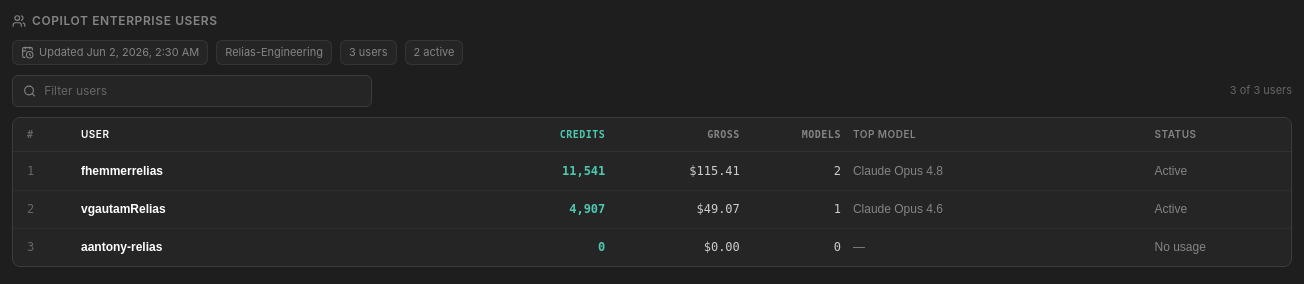
TopUsersSection › shows an empty match message when the filter excludes all users
Type "missing-user" into the search field named "Filter Copilot Enterprise users".
click(203, 90); type("missing-user")  # box [44,82,361,100]
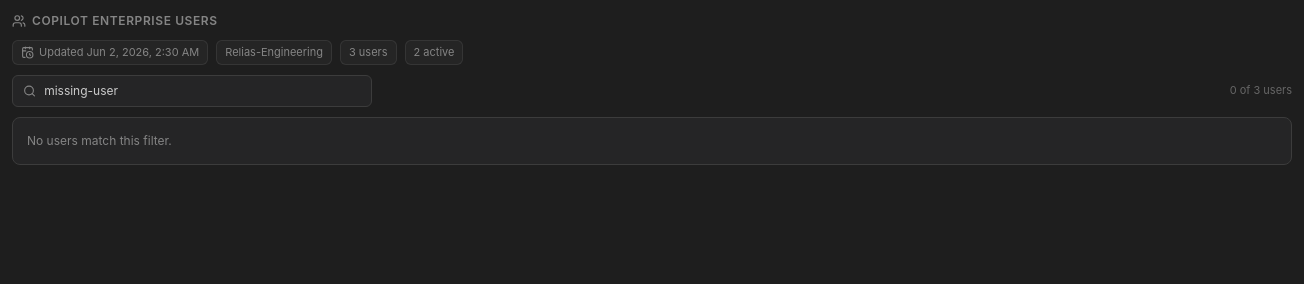
Result: the text "No users match this filter." is shown at [12,116,1292,164]
Result: the text "0 of 3 users" is shown at [1230,82,1292,99]
